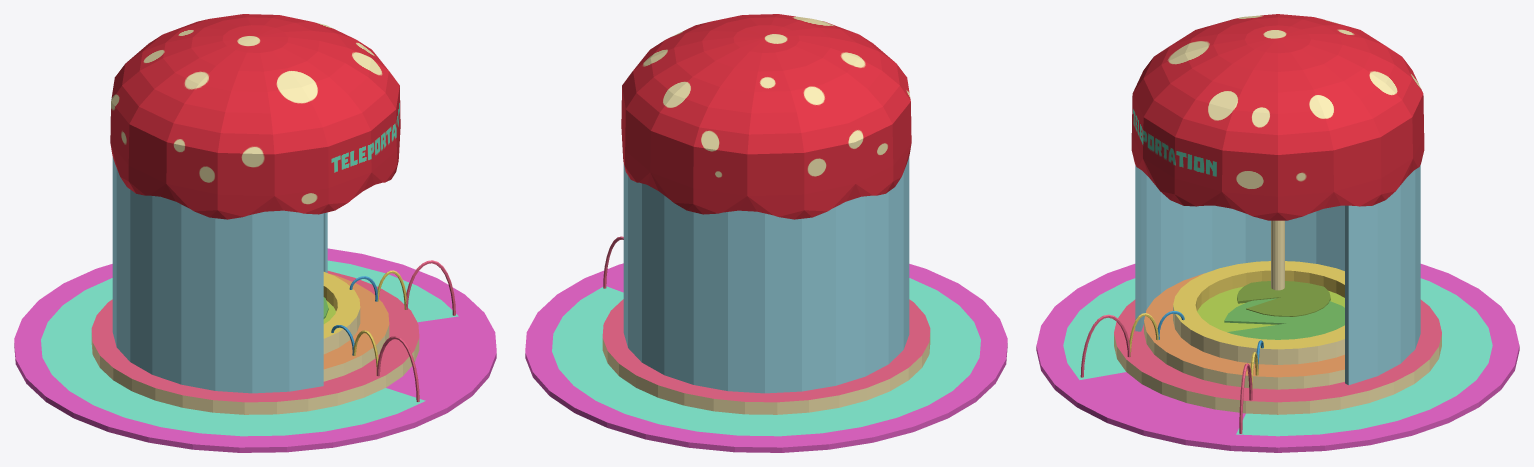
The model's file is D4_TELETRANSPORT.fbx.
3 views of the same model, side by side, from view 1: azimuth 30°, elevation 25°; view 2: azimuth 150°, elevation 25°; view 3: azimuth 270°, elevation 25° (orthographic).
Parts seen in each view (by area): view 1: Cylinder.055, Sphere.004, Cylinder.059; view 2: Cylinder.059, Sphere.004, Cylinder.055; view 3: Cylinder.055, Sphere.004, Cylinder.059, Cylinder.057, Cylinder.058, Cylinder.056.
Boxes of the visible parts, x1,y1,x2,y2 form: Cylinder.055: (14,248,496,452); Sphere.004: (110,14,400,219); Cylinder.059: (112,157,327,393); Cylinder.059: (623,157,909,393); Sphere.004: (621,14,911,219); Cylinder.055: (525,263,1007,452); Cylinder.055: (1036,261,1519,452); Sphere.004: (1131,14,1424,220); Cylinder.059: (1135,165,1420,385); Cylinder.057: (1224,298,1344,339); Cylinder.058: (1237,281,1330,316); Cylinder.056: (1271,220,1284,290).
Bounding box in the file's own units: 783 × 560 × 783.
4 materials, 3 textured.
